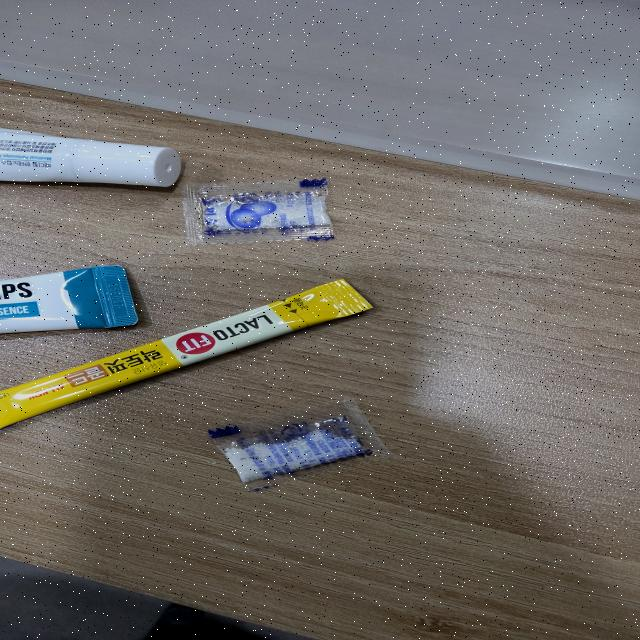lacto: (0, 271, 403, 443)
lip: (0, 253, 157, 352), (0, 119, 193, 194)
salt: (204, 393, 399, 494), (182, 176, 352, 256)
